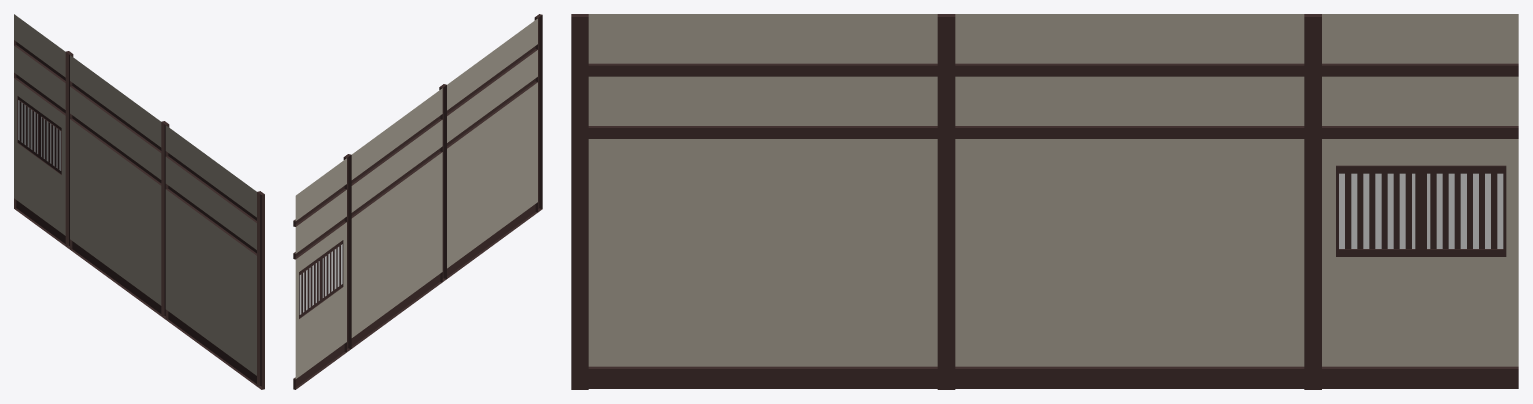
Rendered from set_2_wall_L.glb.
3 views of the same model, side by side, from view 1: azimuth 30°, elevation 25°; view 2: azimuth 150°, elevation 25°; view 3: azimuth 270°, elevation 25° (orthographic). The views are drawn at different scales.
Parts seen in each view (by area): view 1: LeftWall2; view 2: LeftWall2; view 3: LeftWall2.
Part boxes in pixels (x1=…): LeftWall2: x1=14, y1=14, x2=264, y2=389; LeftWall2: x1=293, y1=14, x2=542, y2=389; LeftWall2: x1=571, y1=14, x2=1518, y2=389.
Size of the model in its own units: 0.0854 by 4.73 by 10.9.
